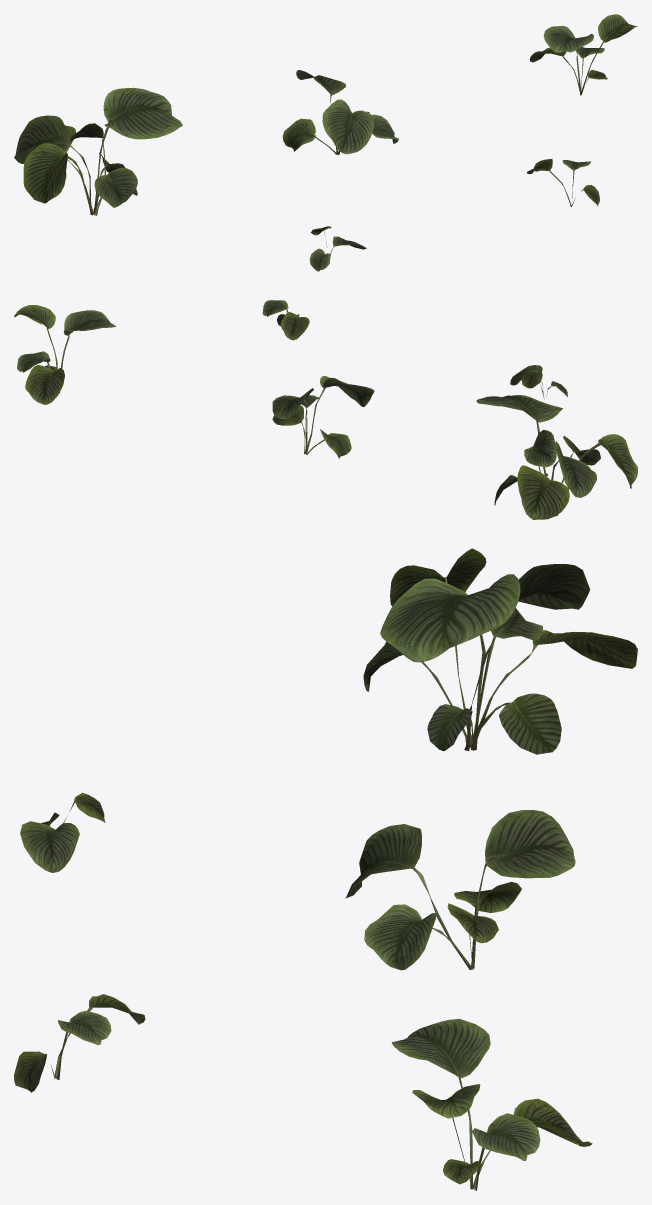
The model's file is calathea.glb.
The picture shows the model from 3 angles, top to bottom: view 1: azimuth 30°, elevation 25°; view 2: azimuth 150°, elevation 25°; view 3: azimuth 270°, elevation 25°; orthographic projection. The views are drawn at different scales.
Visible parts, largest first — view 1: calathea_orbifolia_01_a; view 2: calathea_orbifolia_01_a; view 3: calathea_orbifolia_01_a.
Part boxes in pixels (left/top/right/bottom): calathea_orbifolia_01_a: left=14, top=14, right=637, bottom=271; calathea_orbifolia_01_a: left=14, top=300, right=637, bottom=519; calathea_orbifolia_01_a: left=14, top=548, right=637, bottom=1190.
Size of the model in its own units: 2.49 by 0.4245 by 1.2.
1 material, 1 textured.
